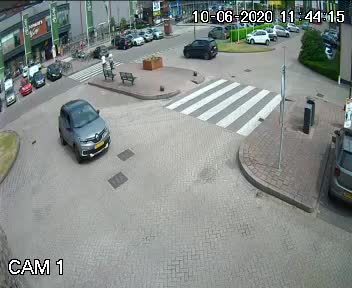car: (46, 97, 112, 165), (178, 33, 219, 65)
